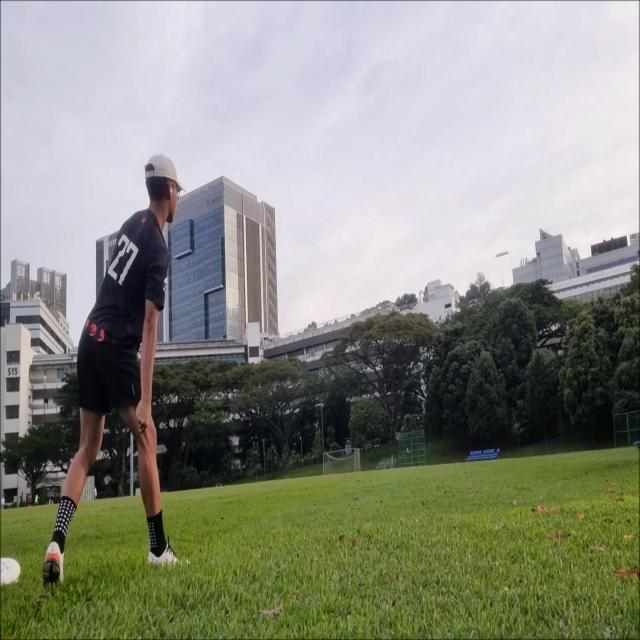disc: (494, 249, 509, 259)
